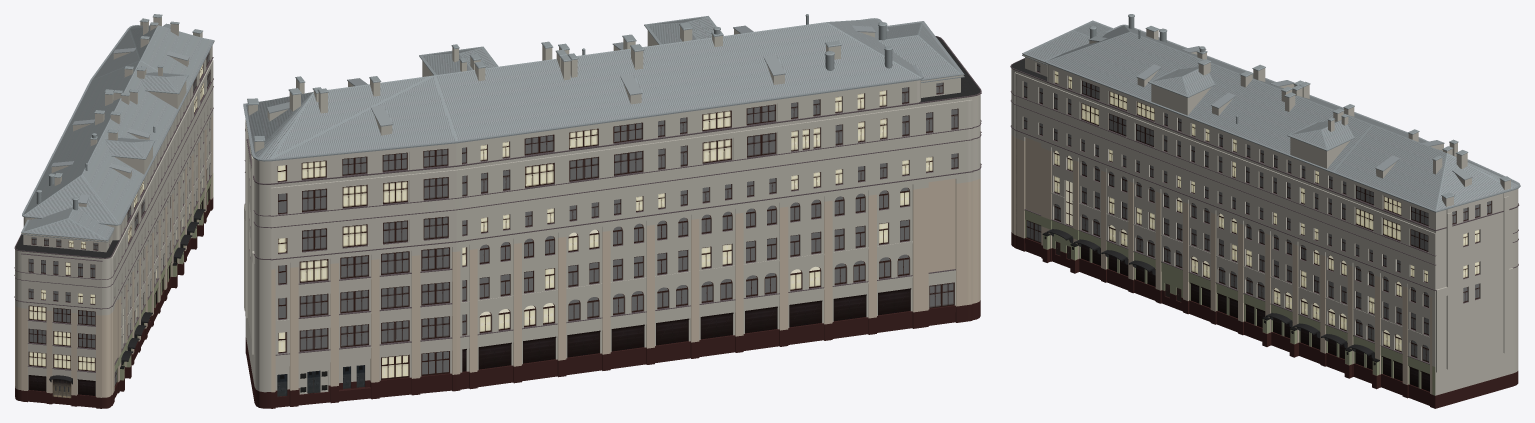
3 views of the same model, side by side, from view 1: azimuth 30°, elevation 25°; view 2: azimuth 150°, elevation 25°; view 3: azimuth 270°, elevation 25° (orthographic). The views are drawn at different scales.
Visible parts, largest first — view 1: 01080-50@114738; view 2: 01080-50@114738; view 3: 01080-50@114738.
Part boxes in pixels (x1,y1,x2,y2): 01080-50@114738: (14,14,214,408); 01080-50@114738: (243,14,981,408); 01080-50@114738: (1010,14,1520,408).
Bounding box in the file's own units: 75.43 × 41.44 × 81.17.
Materials: 1 (1 with a texture image).
